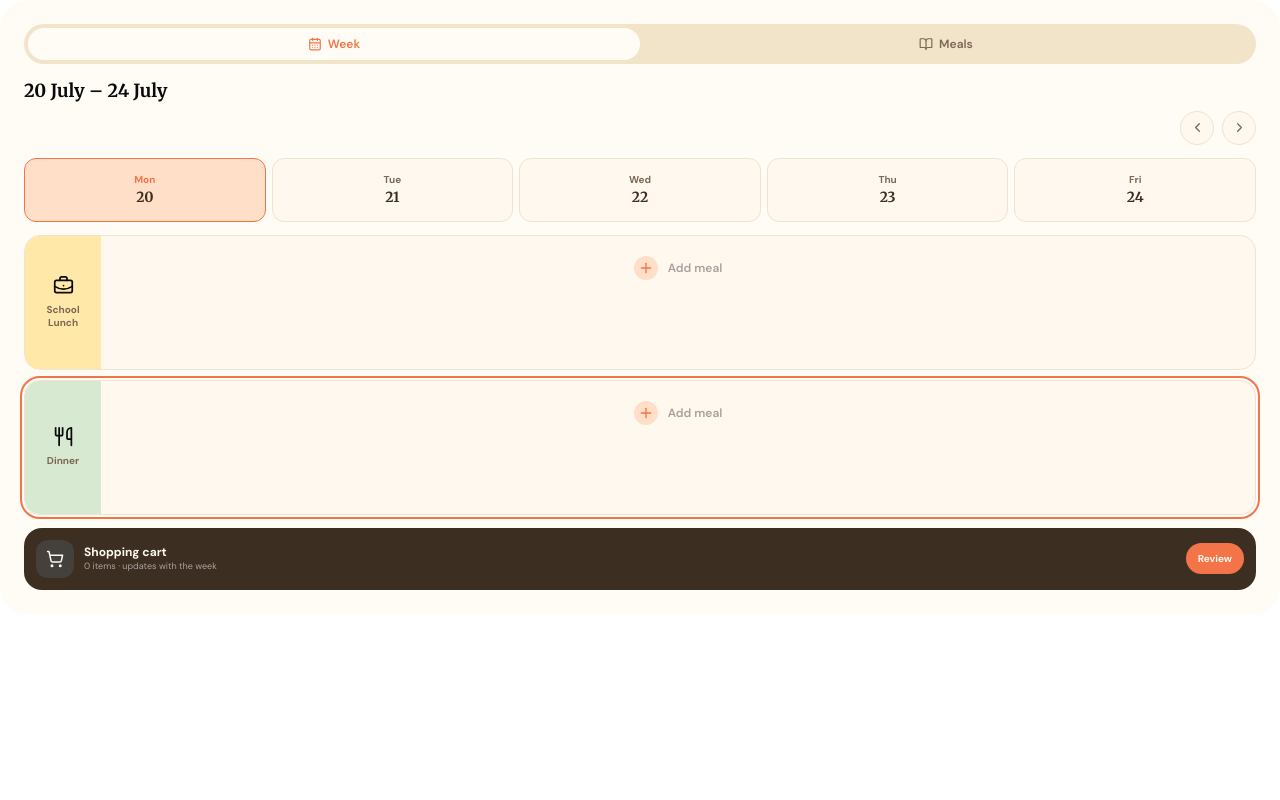
Scenario: WeekRoute › keeps the chooser open and explains when an assignment cannot be saved
The width and height of the screenshot is (1280, 800).
Click the button with aria-label "Choose Monday dinner" at point(640, 447), box [24, 380, 1256, 514]
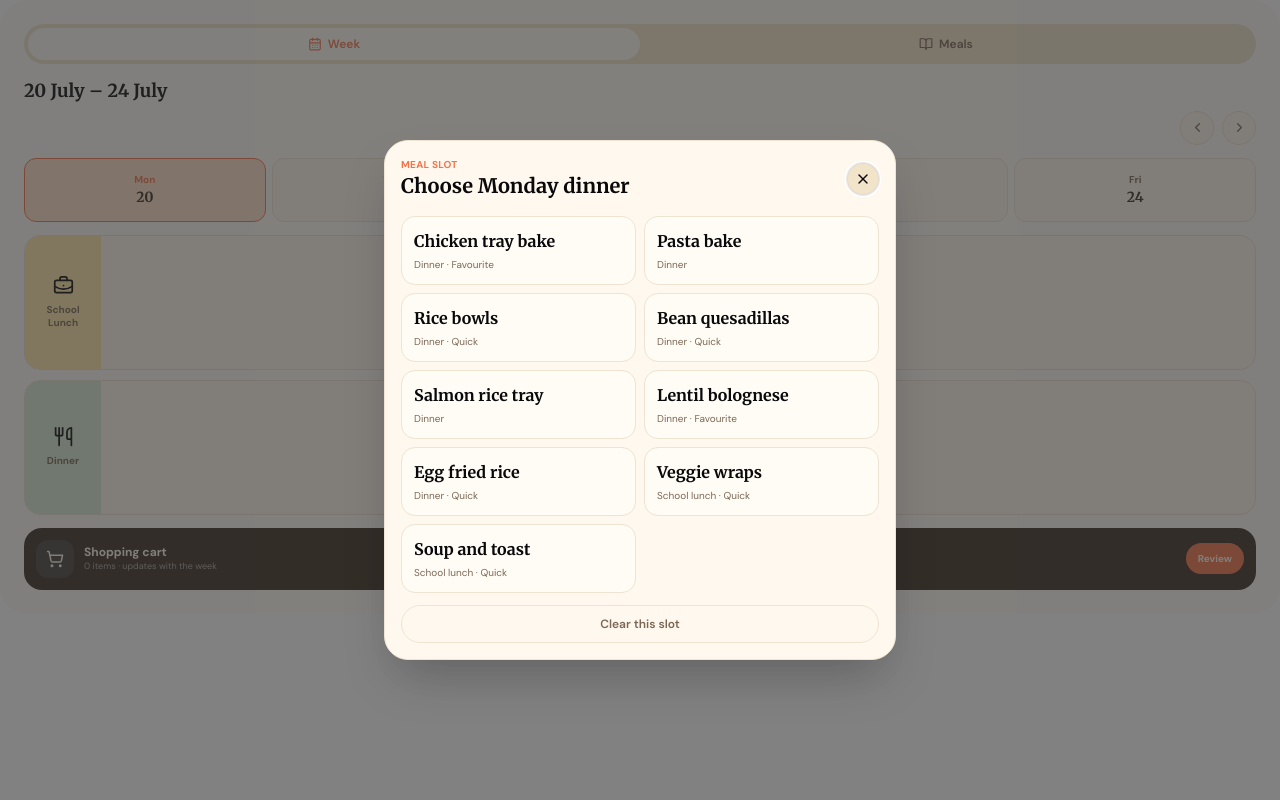
Click the button "Pasta bake Dinner" at point(762, 250), box [644, 216, 879, 285]
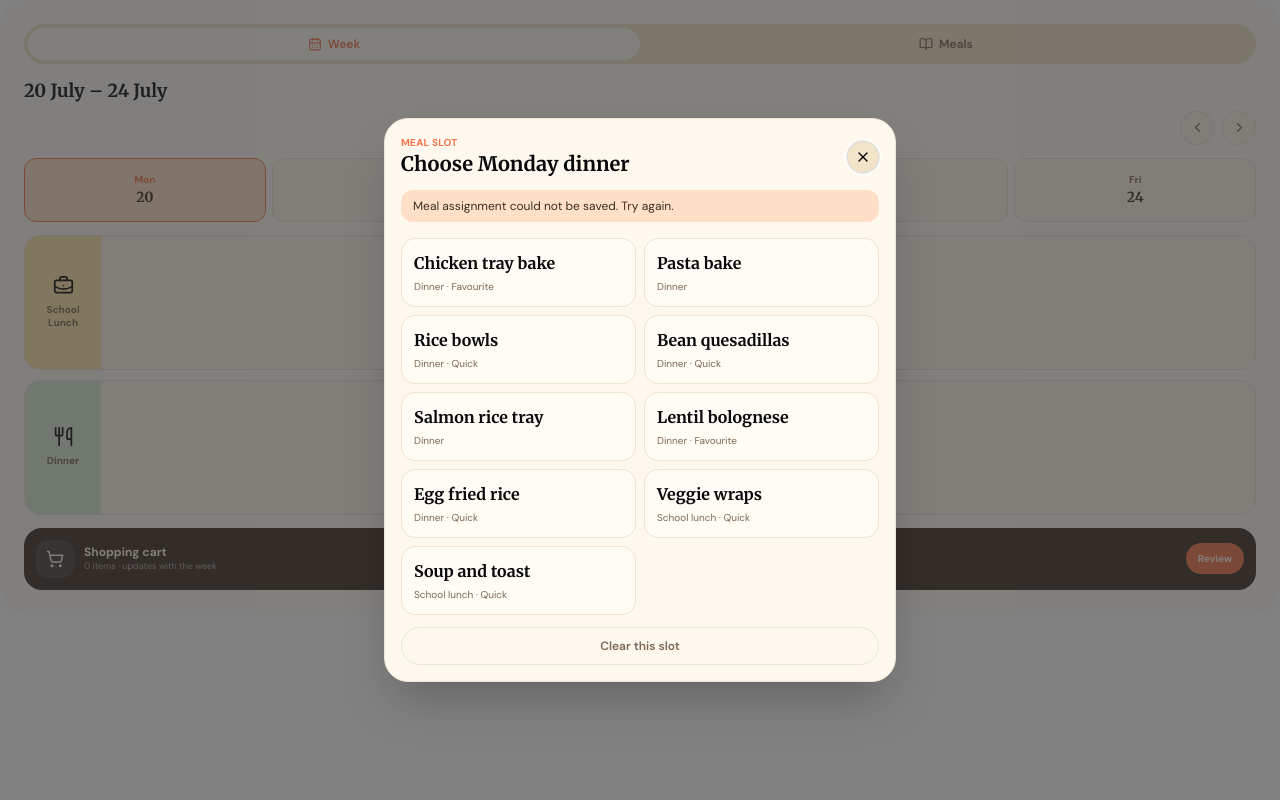
Now the message reads "Meal assignment could not be saved. Try again.", box [413, 198, 674, 214]
Press Escape
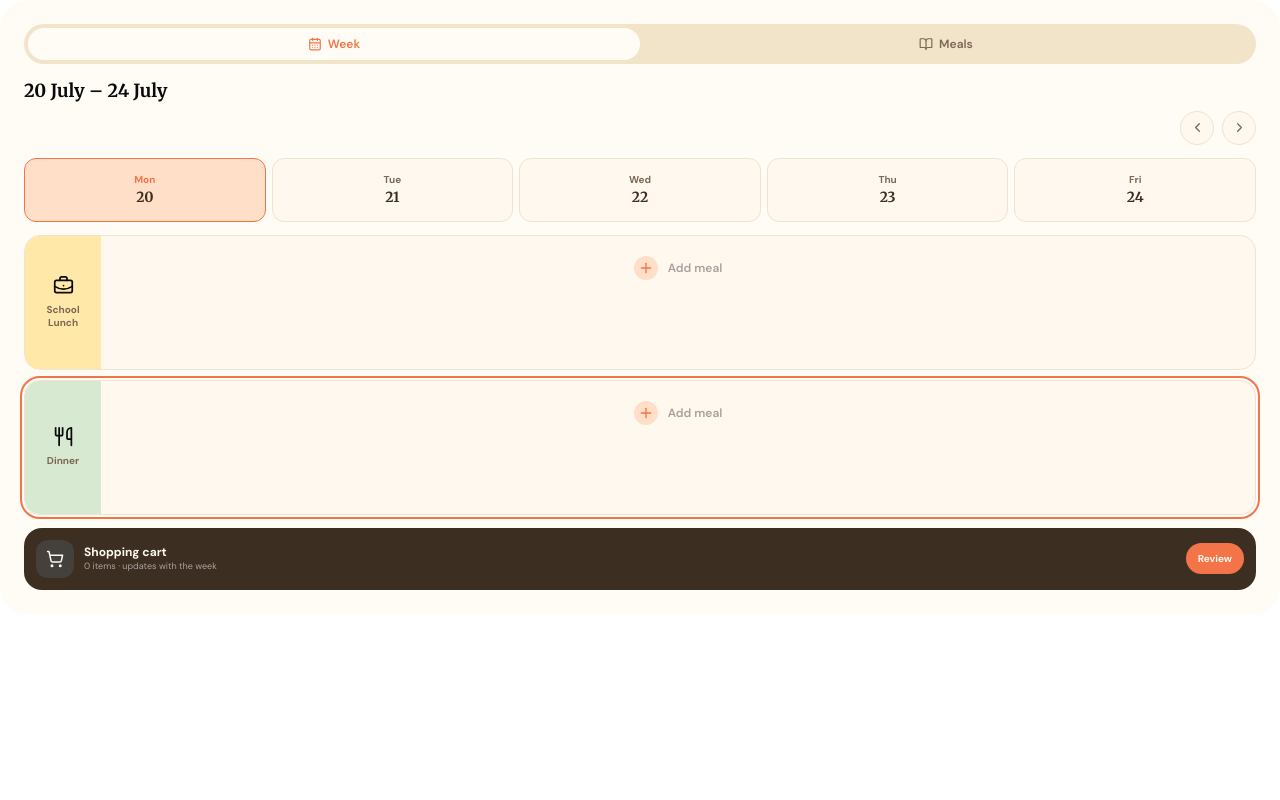
Now the heading "Choose Monday dinner" is gone
